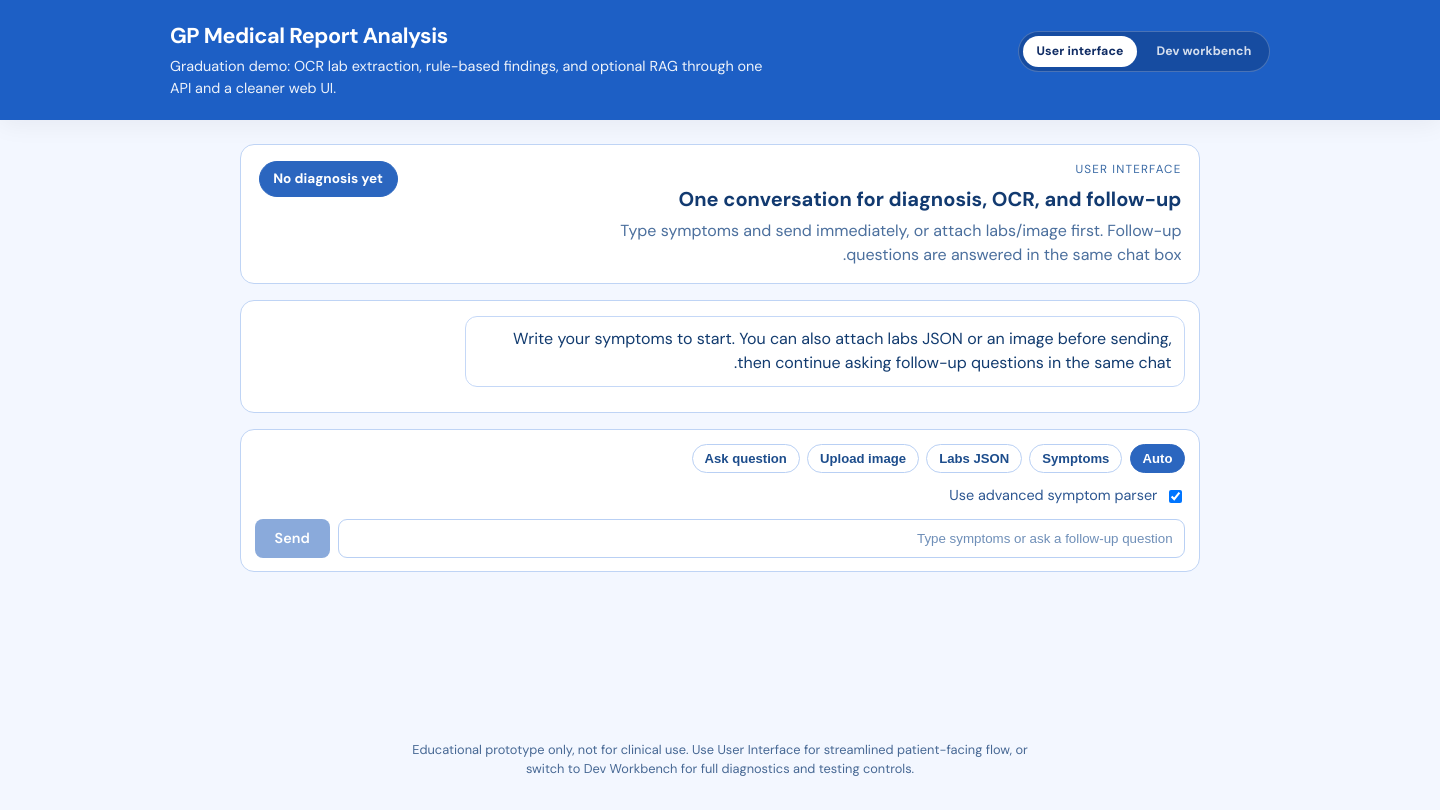
Test: app smoke render shows user mode by default and can switch to workbench
expect the heading "GP Medical Report Analysis" is shown: met, box x1=170 y1=22 x2=448 y2=50
expect the heading "One conversation for diagnosis, OCR, and follow-up" is shown: met, box x1=678 y1=186 x2=1181 y2=212
Click the tab "Dev workbench" at (1204, 51), box x1=1143 y1=36 x2=1265 y2=67
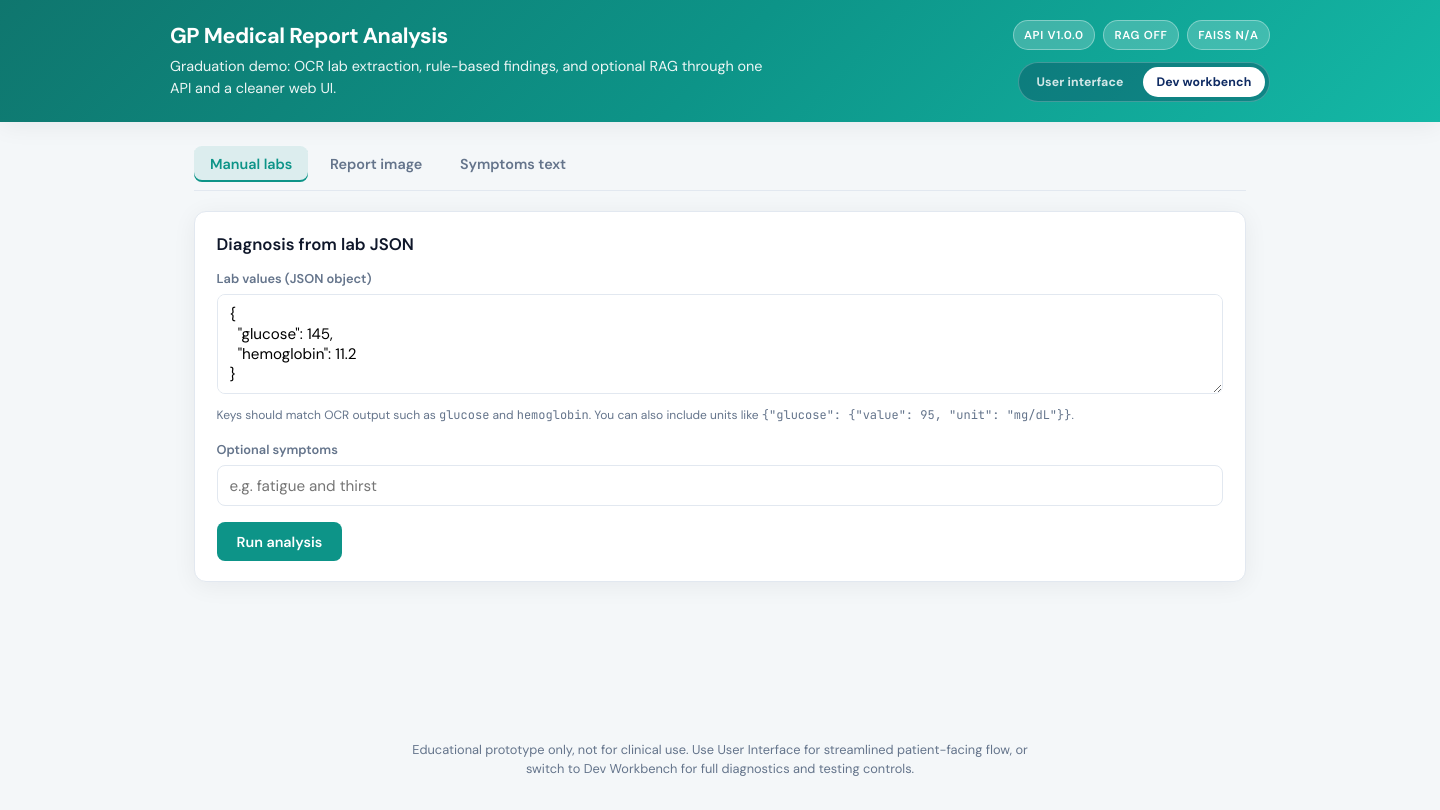
expect the button "Manual labs" is shown: met, box x1=194 y1=146 x2=308 y2=182
expect the button "Report image" is shown: met, box x1=314 y1=146 x2=438 y2=182
expect the button "Symptoms text" is shown: met, box x1=444 y1=146 x2=582 y2=182
